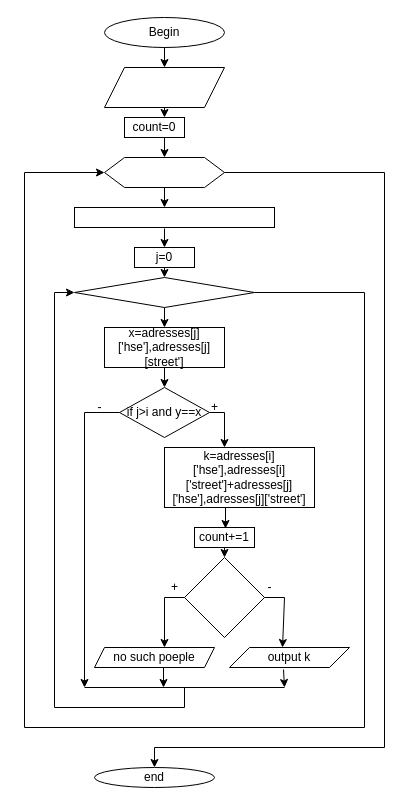
Some shapes in this 410 by 805 pixel diagram are drawn without their labels. The centre of each missing label's shape, as x and y in pixels:
"for i=0 to length(adresses)" belongs at (x=164, y=172).
"if count==0" belongs at (x=224, y=597).
"input addresses" belongs at (x=164, y=87).
"j<length adresses" belongs at (x=164, y=292).
"y=adresses[i]['hse'],adresses[,street']" belongs at (x=174, y=217).
